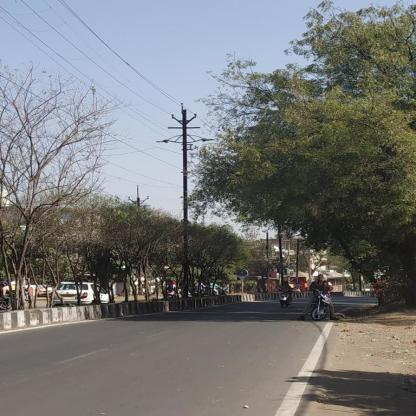Electrical Pole: (151, 99, 223, 299)
